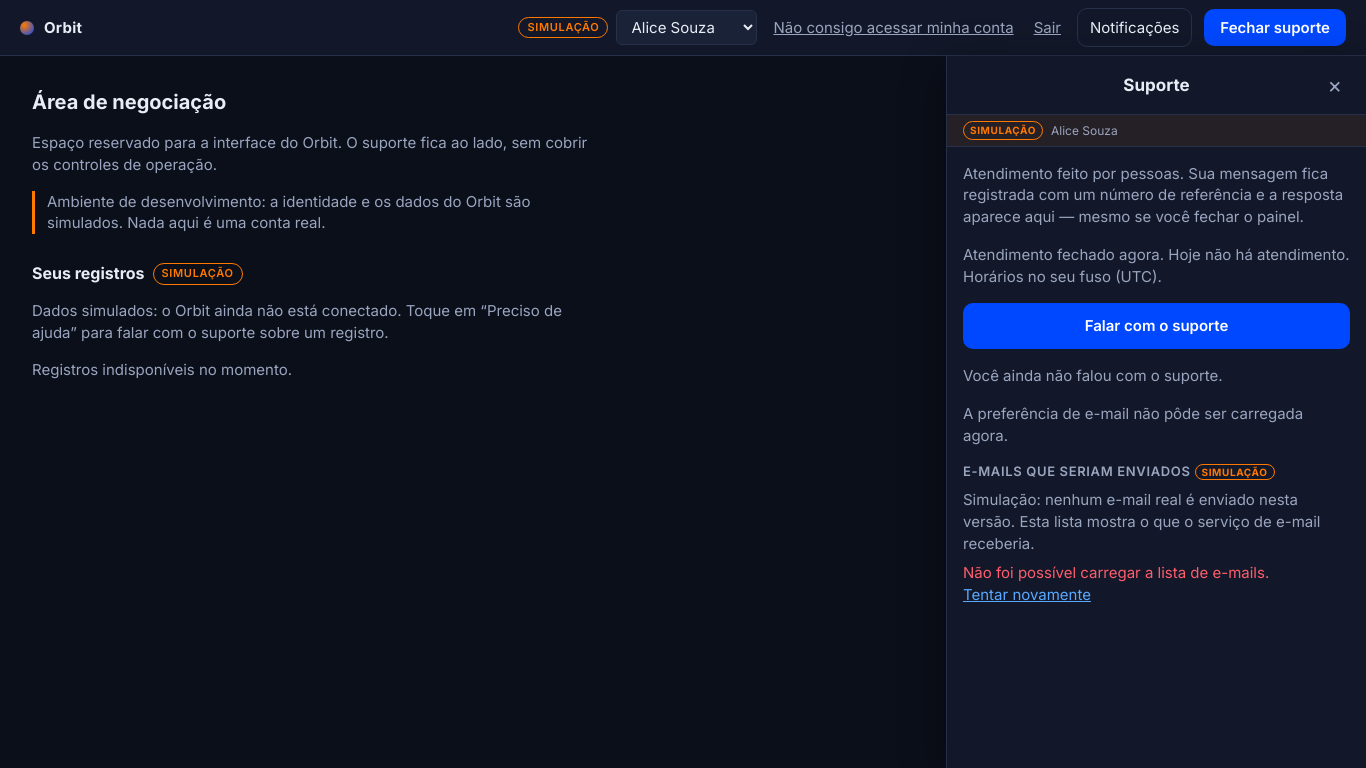
Test: OrbitShell › FND-0034: host re-renders (panel toggles, records reloads) do not re-open the customer stream
This screenshot has width=1366, height=768.
Expected: the text "Você ainda não falou com o suporte." is shown, [963,366,1223,385]
Click the button "Fechar suporte" at coordinates (1275, 28), box [1204,9,1346,46]
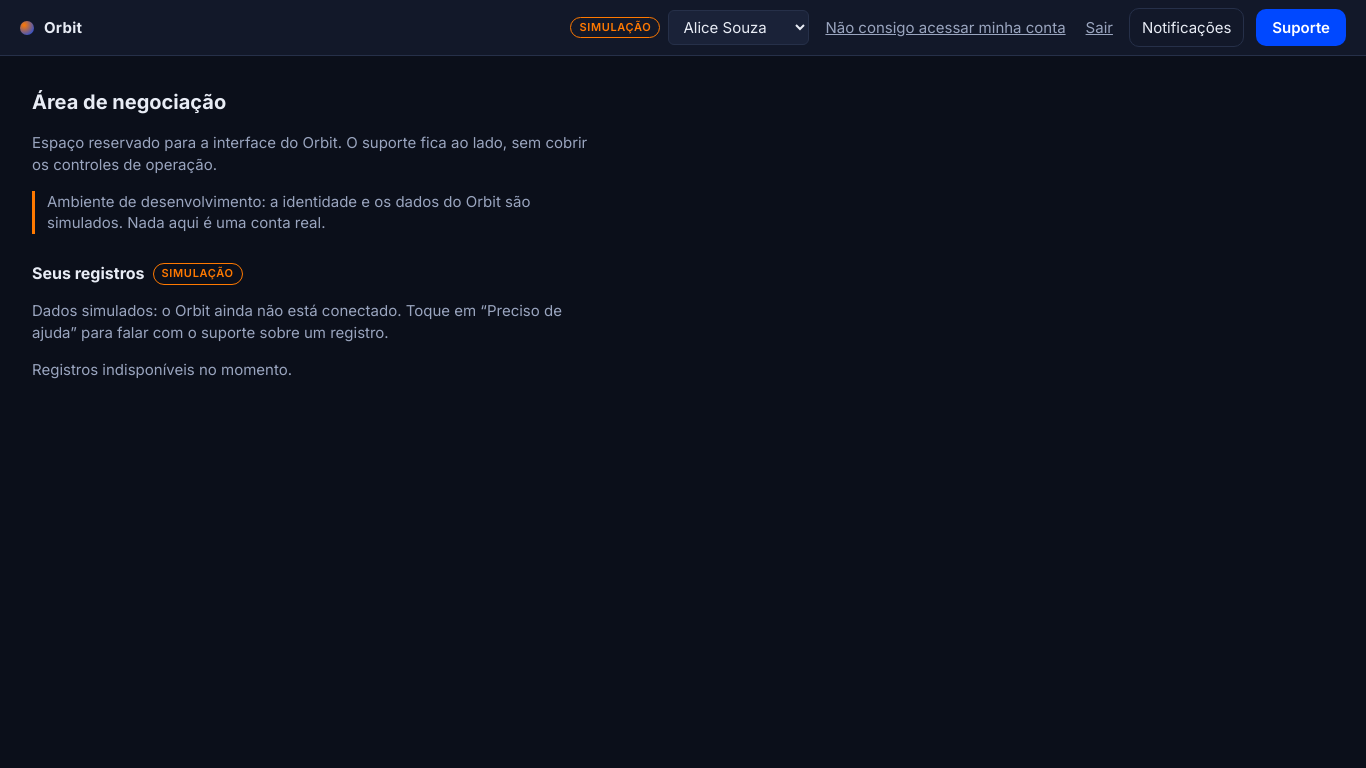
Click the button "Suporte" at coordinates (1301, 28), box [1256,9,1346,46]
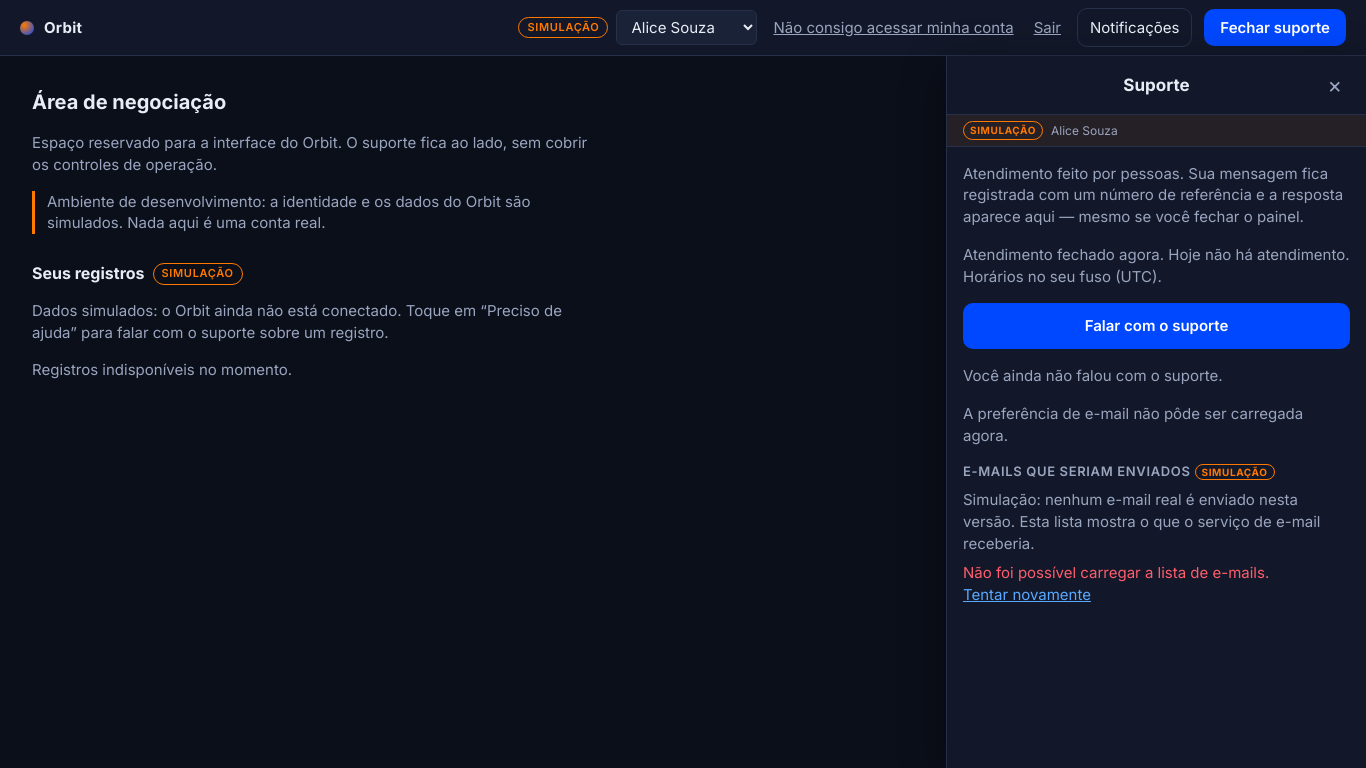
Click the button "Fechar suporte" at coordinates (1275, 28), box [1204,9,1346,46]
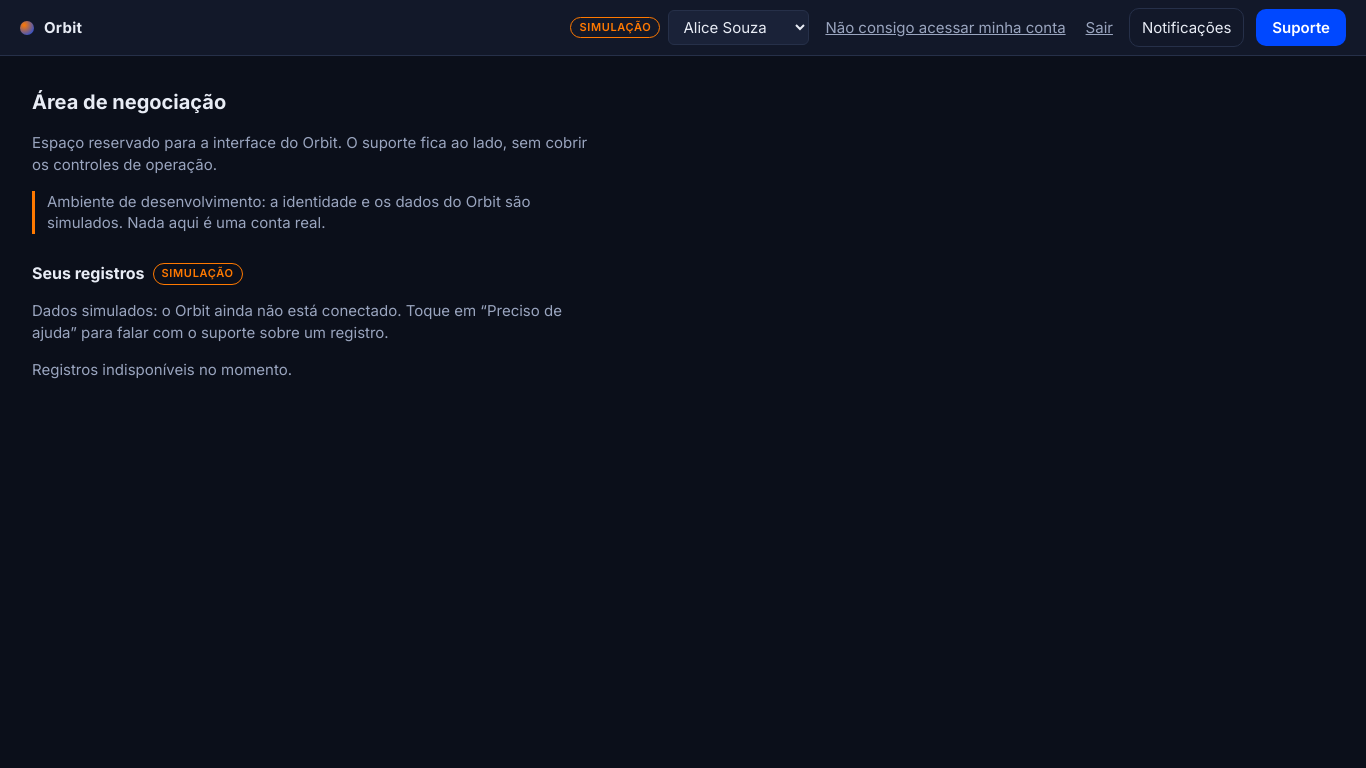
Click the button "Suporte" at coordinates (1301, 28), box [1256,9,1346,46]
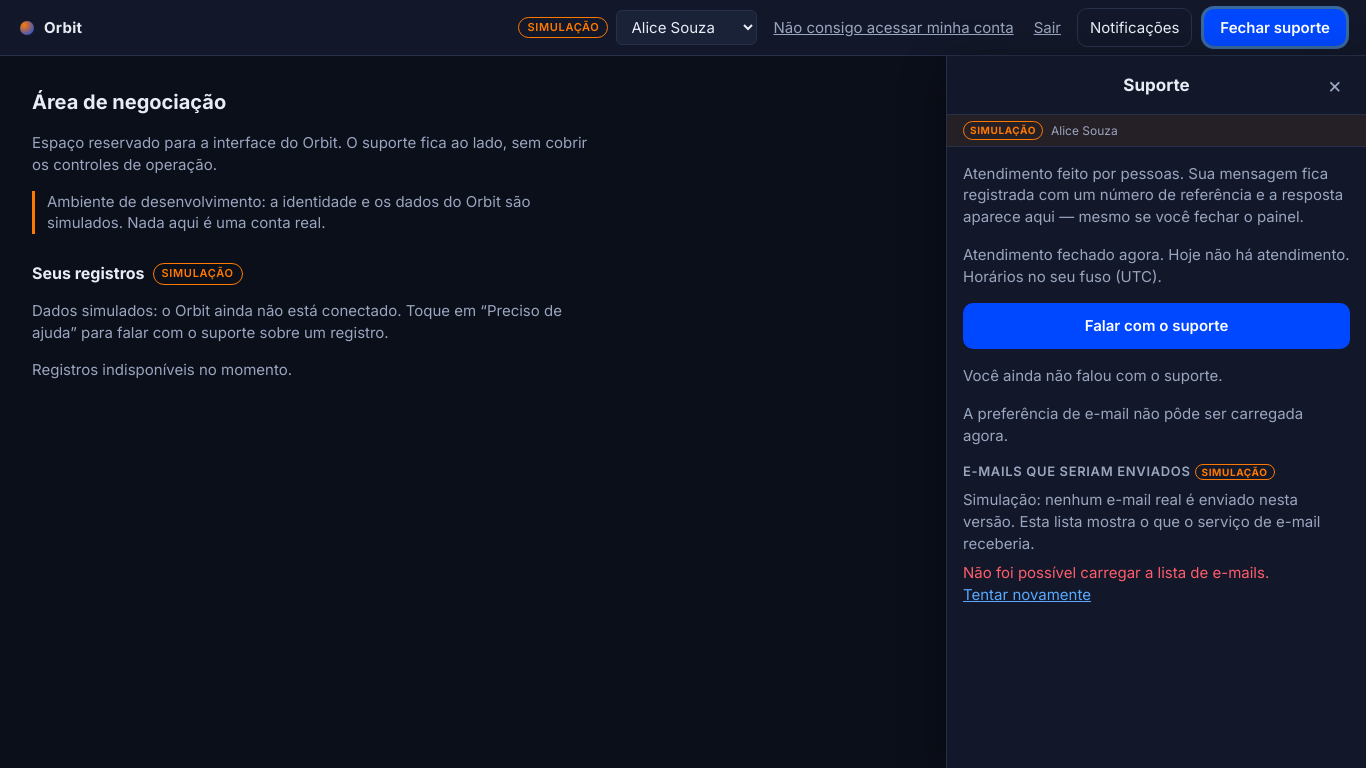
Result: the button "Fechar suporte" is expanded at [1204,9,1346,46]
